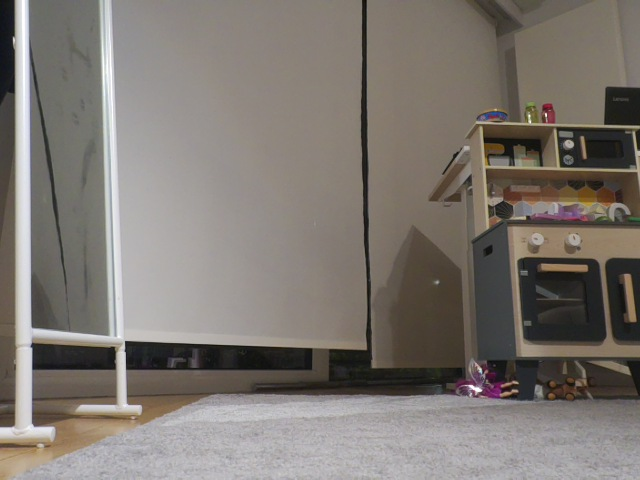carpet: (17, 394, 639, 479), (463, 122, 640, 387)
mirror: (0, 0, 139, 443)
roll: (114, 0, 367, 349), (367, 0, 505, 365)
toy: (456, 360, 522, 400), (544, 375, 590, 402)
